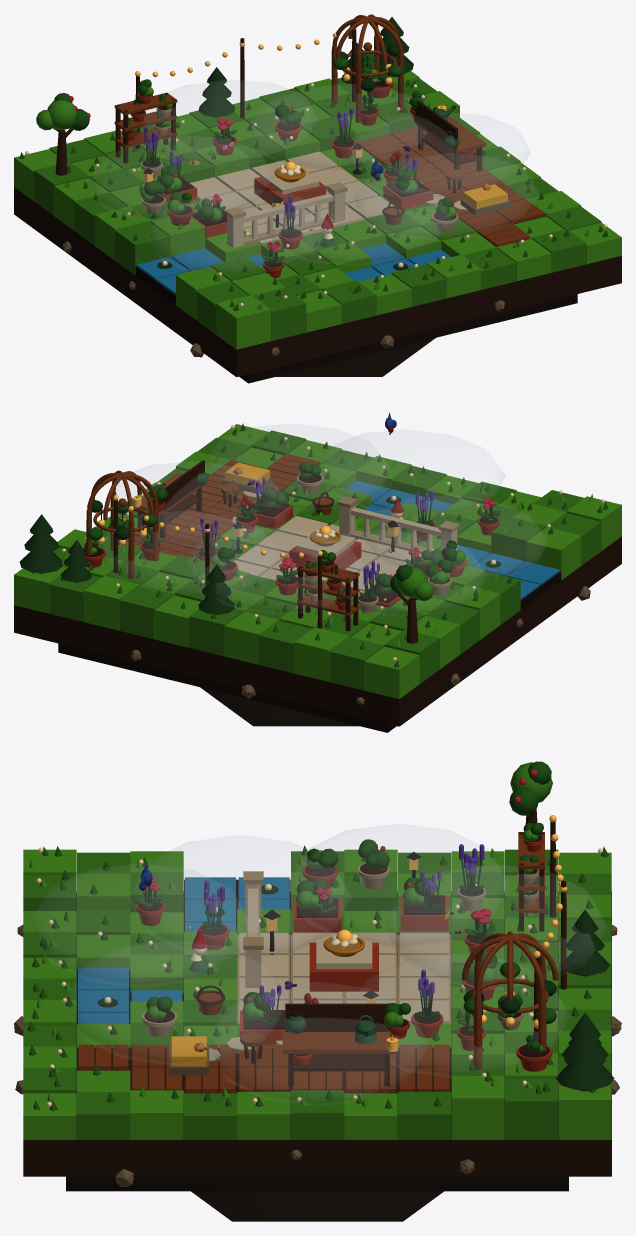
File: habitgarden.glb
3 renders of one model, top to bottom at view 1: azimuth 30°, elevation 25°; view 2: azimuth 150°, elevation 25°; view 3: azimuth 270°, elevation 25°, orthographic. The views are drawn at different scales.
Visible parts, largest first — view 1: island_soil, fog_bank_2, fog_bank_4, fog_bank_5, fog_bank_3, fog_bank_1, fog_bank_0, fog_bank_6, island_bedrock, tile_grass_0_10, island_keel, tile_grass_0_5 (+74 smaller); view 2: island_soil, fog_bank_2, fog_bank_5, fog_bank_1, fog_bank_4, fog_bank_3, fog_bank_6, fog_bank_0, island_bedrock, tile_grass_0_0, island_keel, tile_grass_0_8 (+71 smaller); view 3: island_soil, fog_bank_1, fog_bank_2, fog_bank_5, fog_bank_0, fog_bank_4, fog_bank_6, fog_bank_3, island_bedrock, island_keel, tile_grass_10_2, tile_grass_10_1 (+89 smaller).
Boxes of the visible parts, bbox=[...] form: island_soil: bbox=[14, 187, 621, 377]; fog_bank_2: bbox=[267, 178, 450, 264]; fog_bank_4: bbox=[87, 139, 273, 220]; fog_bank_5: bbox=[137, 80, 315, 159]; fog_bank_3: bbox=[146, 189, 302, 272]; fog_bank_1: bbox=[368, 153, 538, 239]; fog_bank_0: bbox=[346, 113, 530, 178]; fog_bank_6: bbox=[273, 84, 411, 170]; island_bedrock: bbox=[239, 294, 577, 383]; tile_grass_0_10: bbox=[216, 295, 271, 349]; island_keel: bbox=[276, 338, 435, 376]; tile_grass_0_5: bbox=[115, 222, 170, 275]; island_soil: bbox=[14, 536, 621, 726]; fog_bank_2: bbox=[331, 430, 505, 511]; fog_bank_5: bbox=[183, 528, 358, 614]; fog_bank_1: bbox=[206, 424, 353, 510]; fog_bank_4: bbox=[332, 530, 487, 616]; fog_bank_3: bbox=[365, 500, 547, 577]; fog_bank_6: bbox=[99, 511, 255, 594]; fog_bank_0: bbox=[109, 462, 290, 527]; island_bedrock: bbox=[58, 643, 396, 732]; tile_grass_0_0: bbox=[364, 646, 419, 698]; island_keel: bbox=[200, 687, 359, 726]; tile_grass_0_8: bbox=[526, 527, 581, 580]; island_soil: bbox=[23, 891, 611, 1176]; fog_bank_1: bbox=[63, 947, 276, 1064]; fog_bank_2: bbox=[29, 863, 251, 975]; fog_bank_5: bbox=[384, 865, 606, 980]; fog_bank_0: bbox=[215, 982, 417, 1105]; fog_bank_4: bbox=[300, 824, 496, 947]; fog_bank_6: bbox=[363, 962, 569, 1076]; fog_bank_3: bbox=[148, 836, 329, 956]; island_bedrock: bbox=[66, 1176, 568, 1191]; island_keel: bbox=[191, 1191, 443, 1221]; tile_grass_10_2: bbox=[451, 1076, 504, 1139]; tile_grass_10_1: bbox=[505, 1078, 558, 1139].
Size of the model in its own units: 11.48 by 6.24 by 11.36.
